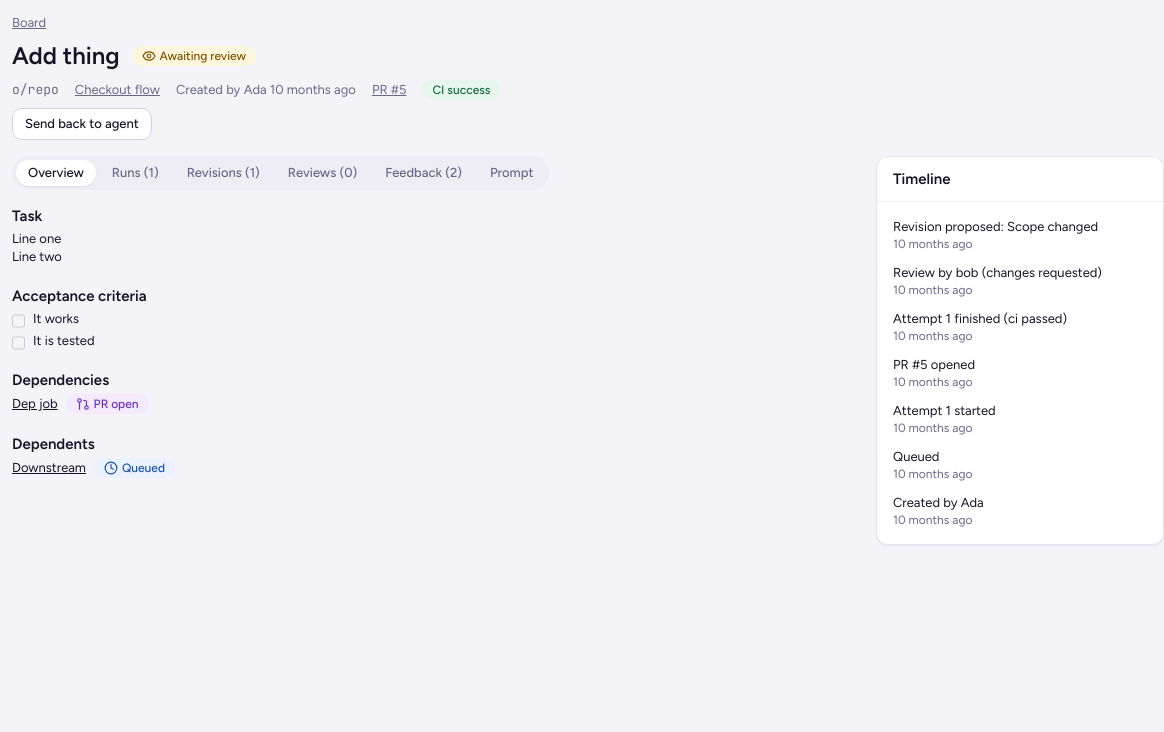
JobDetailView › omits the executor for runs from before personal executors
This screenshot has width=1164, height=732.
Click the tab "Runs (1)" at point(135, 173), box [100,160,171,186]
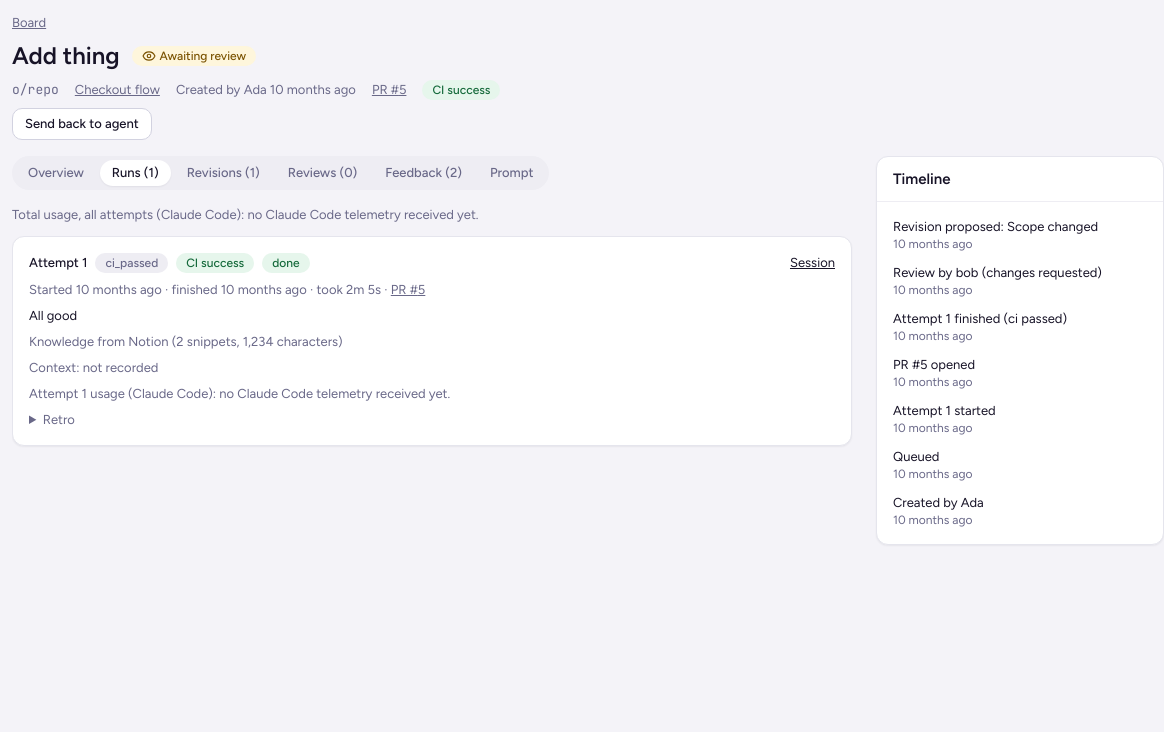
expect the text "All good" is shown: met, box [29,308,77,323]
